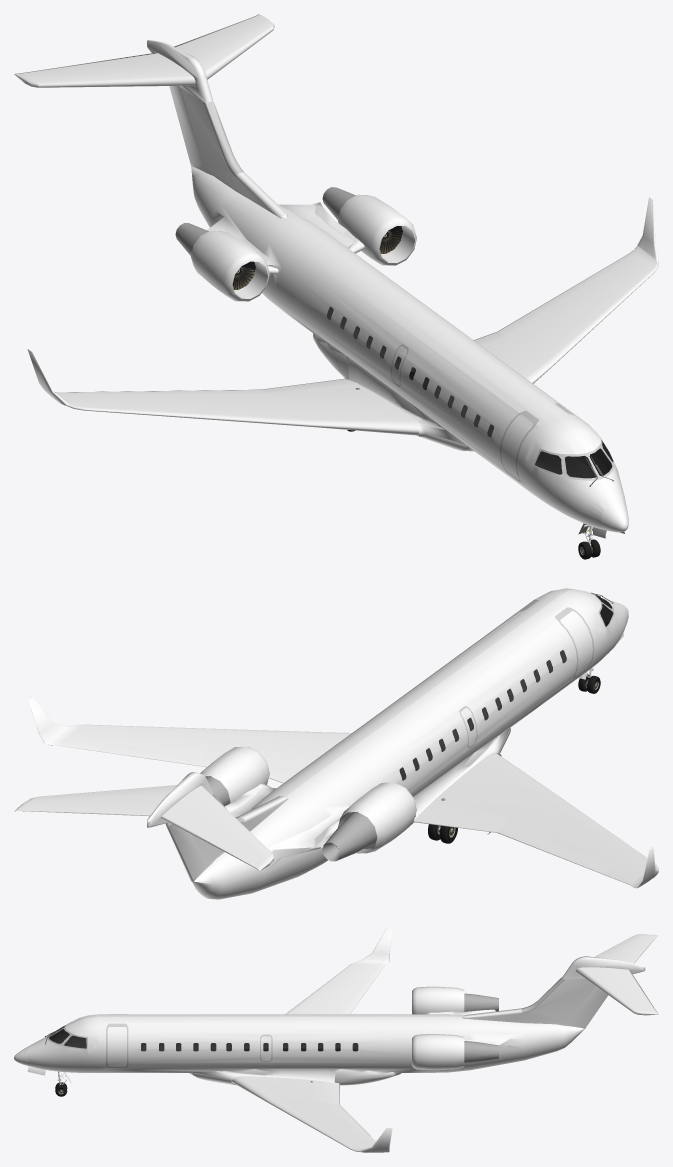
File: crj2-dl.glb
The picture shows the model from 3 angles, top to bottom: view 1: azimuth 30°, elevation 25°; view 2: azimuth 150°, elevation 25°; view 3: azimuth 270°, elevation 25°; orthographic projection. The views are drawn at different scales.
Visible parts, largest first — view 1: body; view 2: body, gear; view 3: body.
Part boxes in pixels (left/top/right/bottom): body: left=14, top=14, right=658, bottom=546; body: left=14, top=588, right=658, bottom=899; gear: left=428, top=674, right=600, bottom=843; body: left=14, top=928, right=658, bottom=1152.
Size of the model in its own units: 19.67 by 6.29 by 26.77.
Materials: 20 (6 with a texture image).
